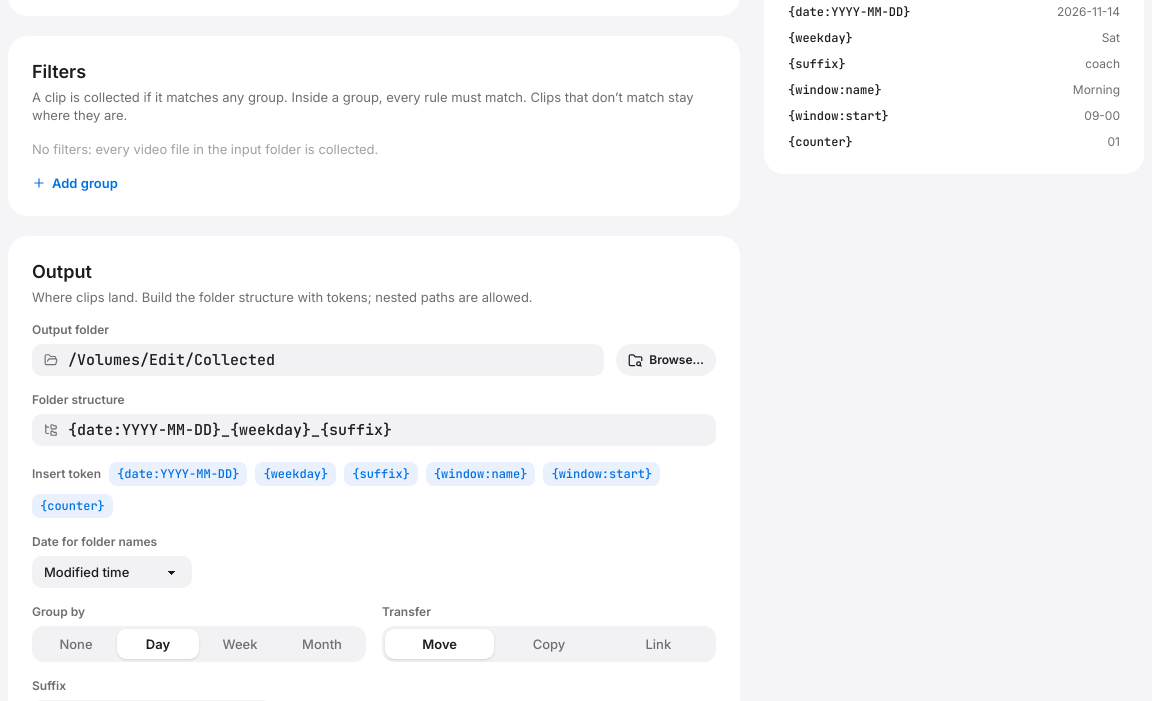
Test: EditCollectorScreen › fills the output folder from the folder picker
(page scrolled)
What coordinates should you click on to do the following:
click the button with aria-label "Browse for output folder"
I would click on:
 (666, 360)
Its box is [616, 344, 716, 376].
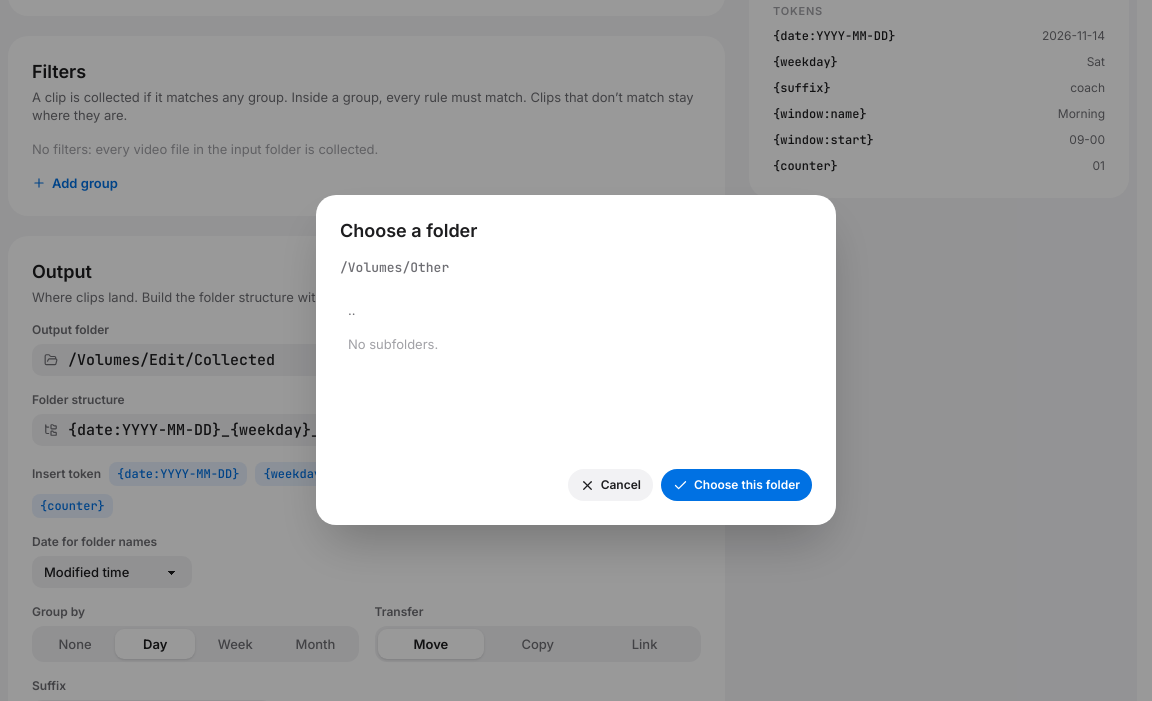
What coordinates should you click on to do the following:
click the button "Choose this folder"
I would click on:
 (736, 485)
Its box is [661, 469, 812, 501].
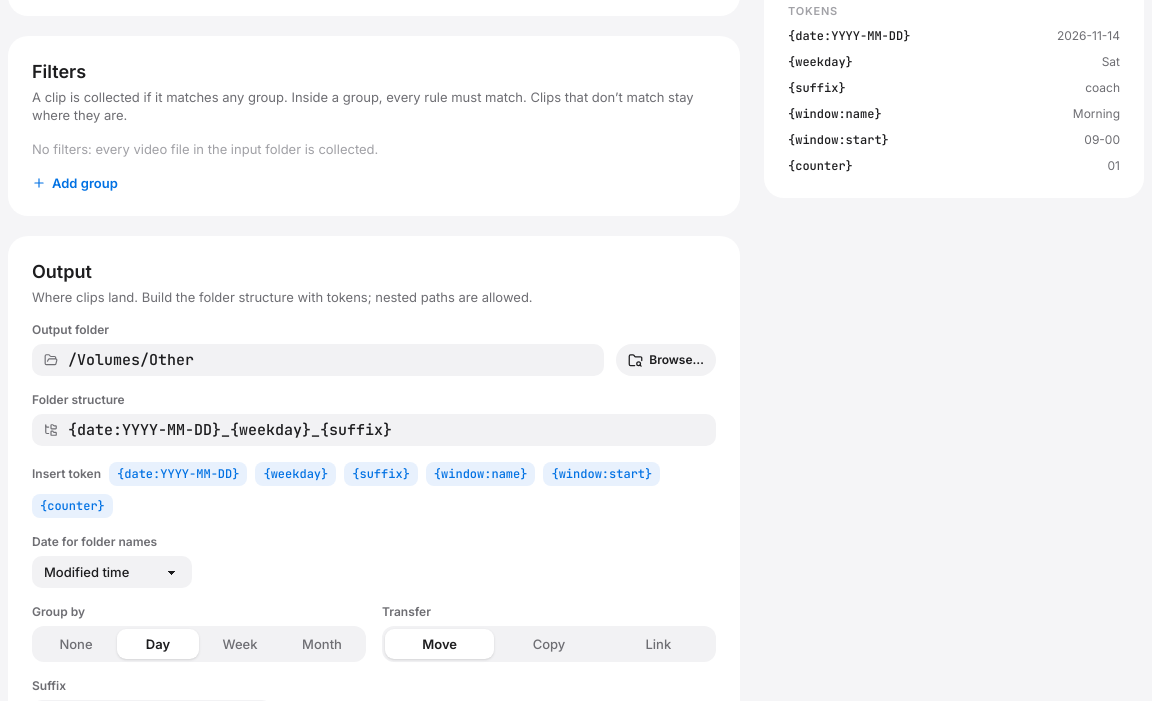
Expected: the field labelled "Output folder" holds "/Volumes/Other", [32, 344, 604, 376]
